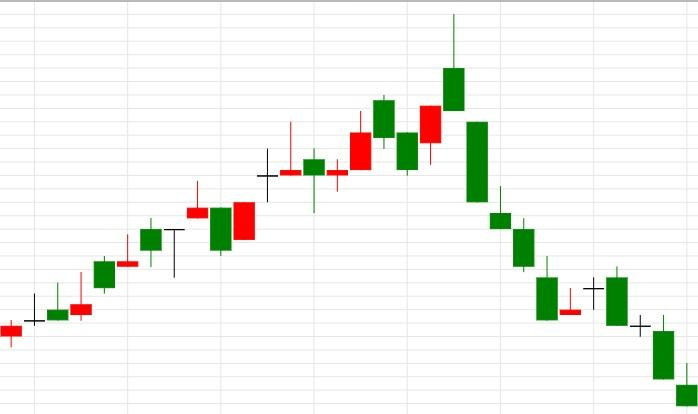hanging_man_fall: (209, 121, 326, 256)
three_black_crows_fall: (396, 13, 512, 230)
